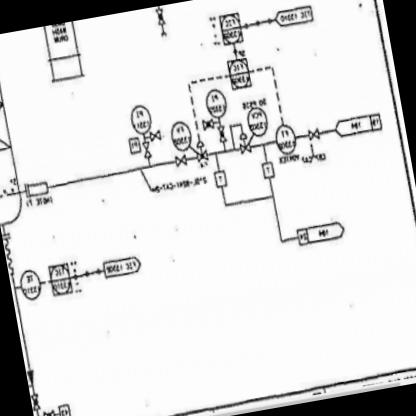LMI: (121, 95, 155, 137), (18, 264, 44, 304), (203, 84, 230, 120), (168, 118, 194, 154), (244, 106, 272, 138), (273, 122, 298, 157)
TAG: (47, 260, 75, 300), (226, 56, 254, 93), (217, 10, 244, 46)
